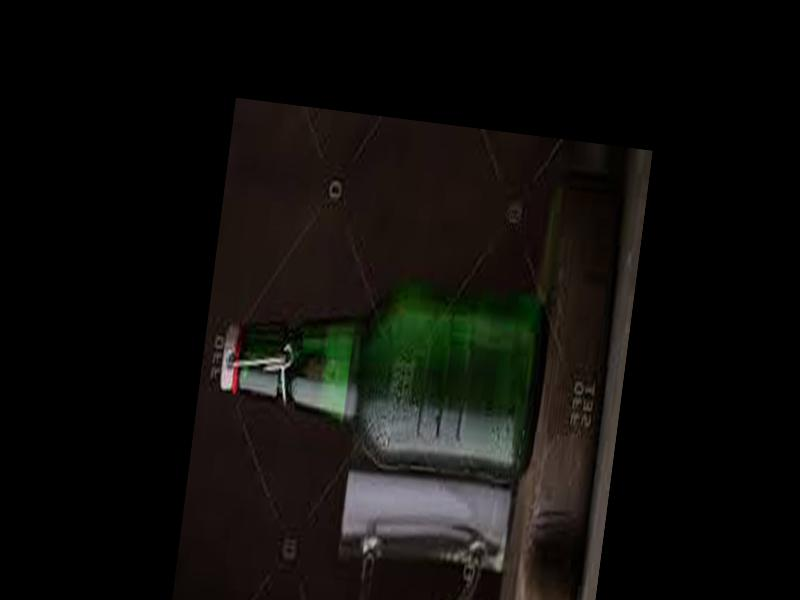Beer: (212, 264, 551, 480)
